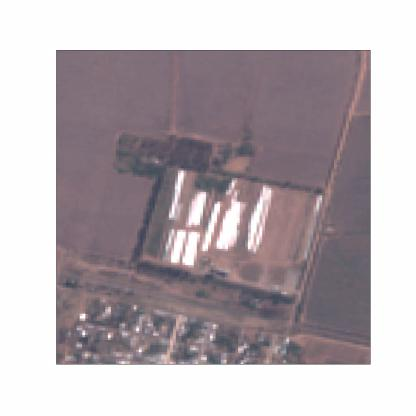silobolsa: (244, 188, 276, 250), (215, 201, 243, 249), (203, 202, 221, 250), (186, 189, 204, 227), (169, 170, 182, 218), (171, 229, 186, 264), (185, 230, 199, 267), (162, 228, 172, 260)
